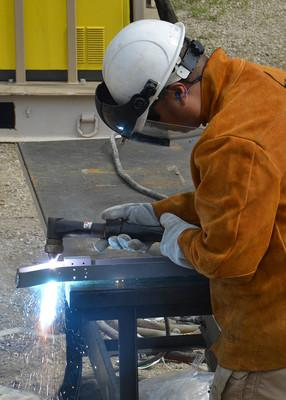helmet: (102, 20, 191, 135)
